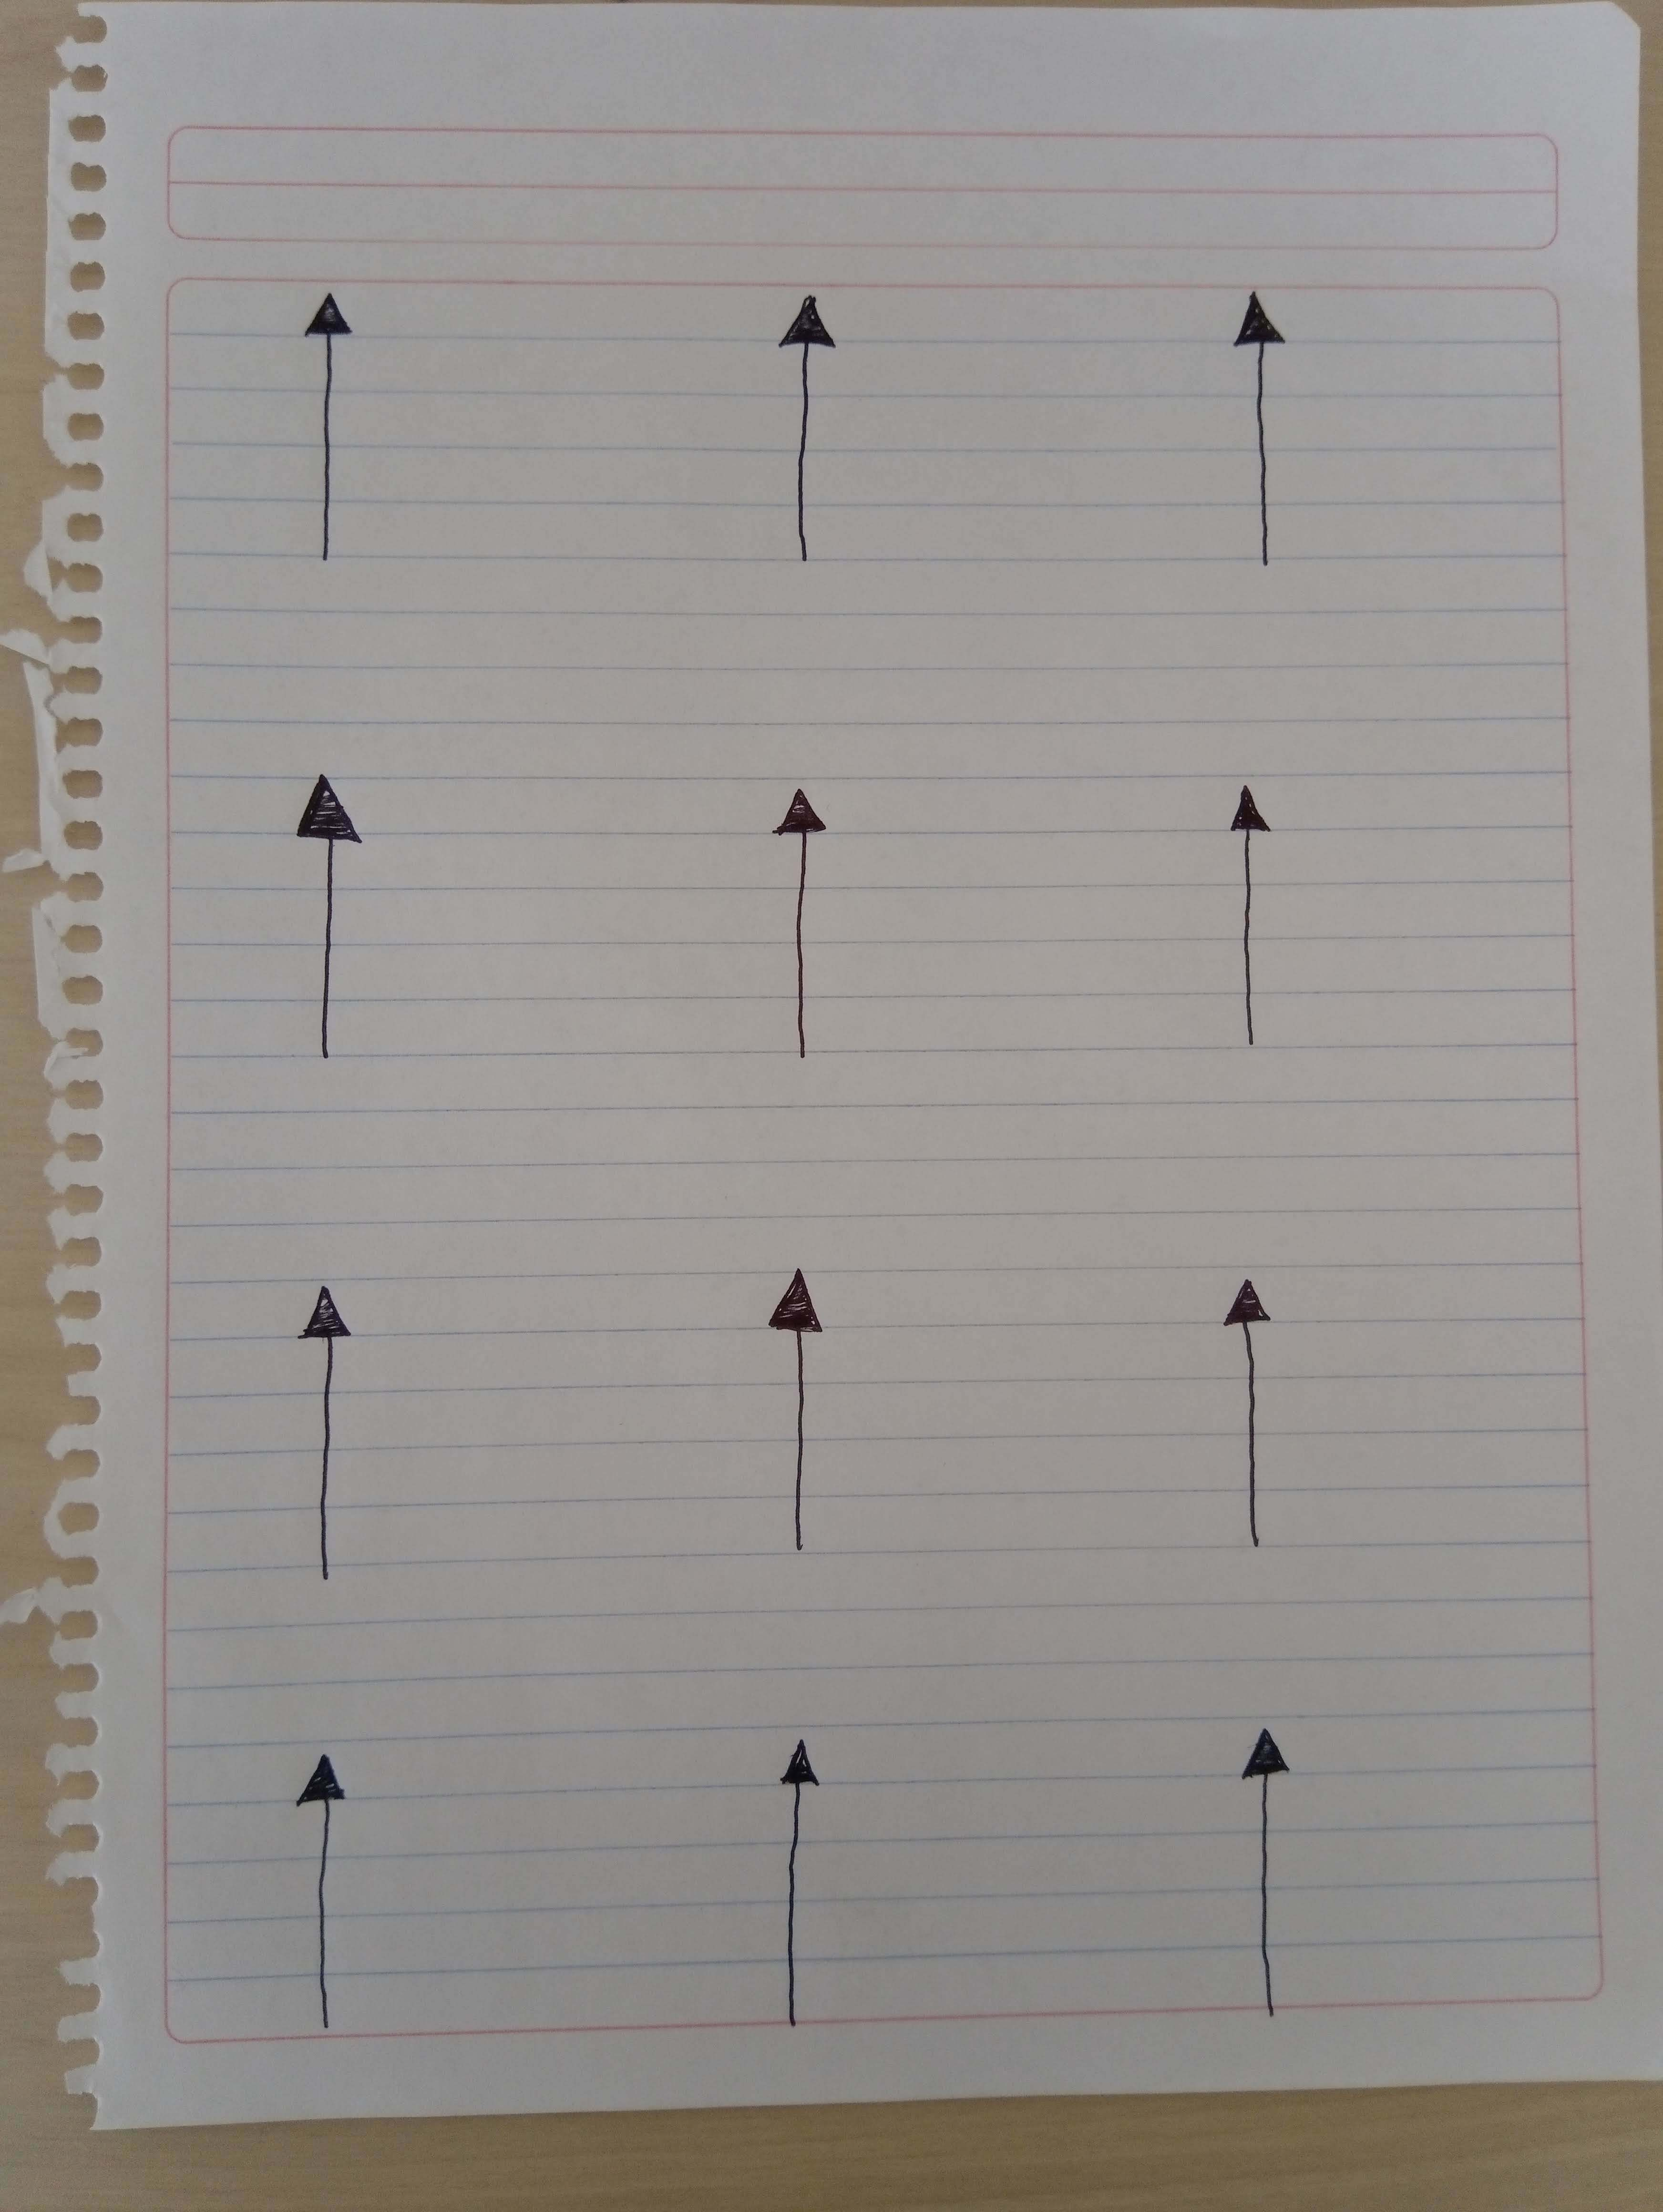arrow_line_up: (1214, 1732, 1335, 2023), (734, 1267, 838, 1596), (276, 1283, 376, 1601), (276, 1763, 391, 2037), (767, 782, 858, 1081), (292, 775, 376, 1088), (749, 1728, 833, 2041), (1218, 286, 1300, 578), (769, 302, 854, 573), (1228, 1280, 1303, 1577), (283, 272, 356, 562), (1230, 772, 1284, 1070)
